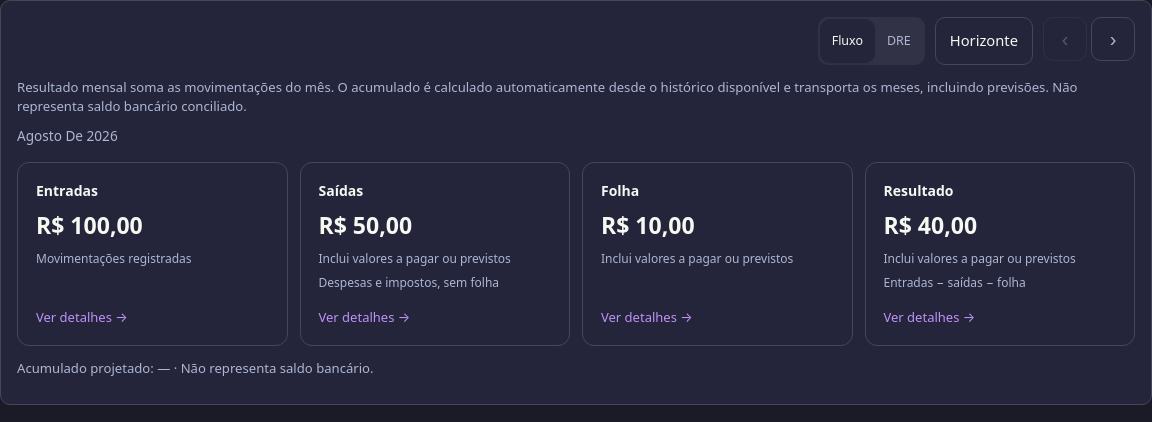
Test case: navega mês com dados já carregados sem nova consulta
Click the button named "Mês seguinte" at (1113, 39), box [1091, 17, 1135, 61]
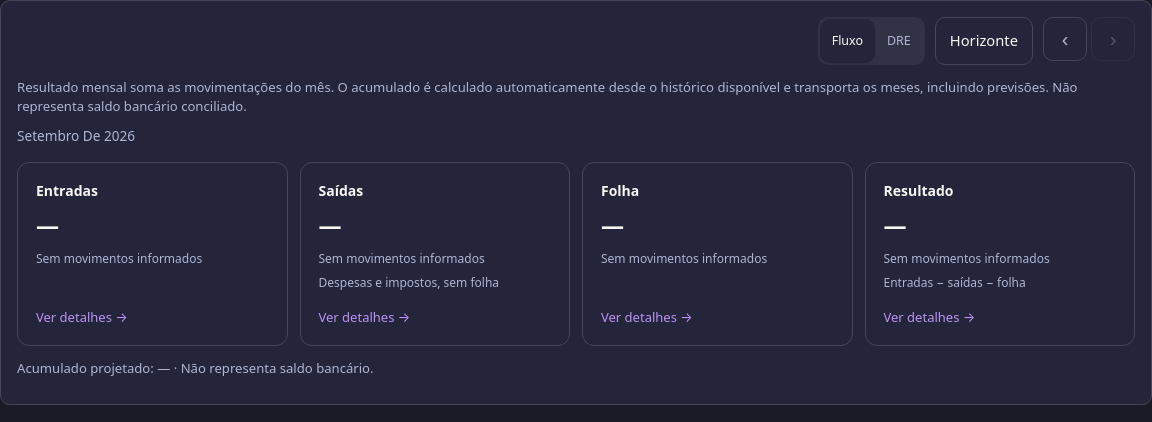
Expected: the button with aria-label "Ver entradas de setembro" shows "—", [17, 162, 288, 346]
